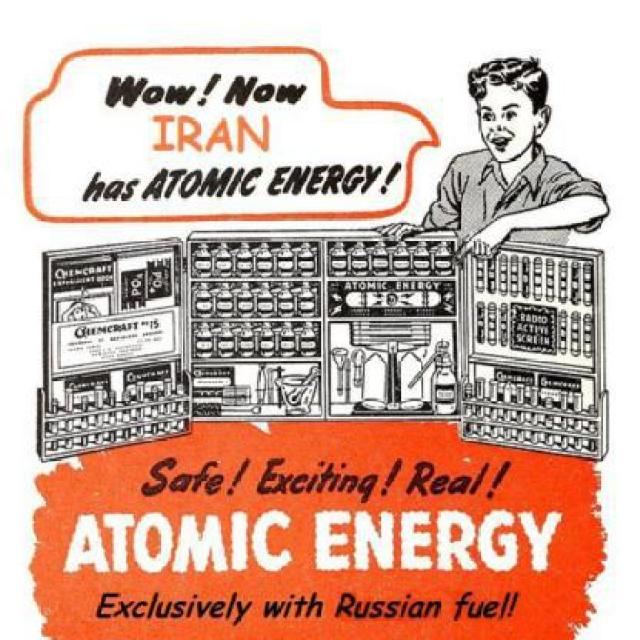Person: (368, 46, 586, 277)
